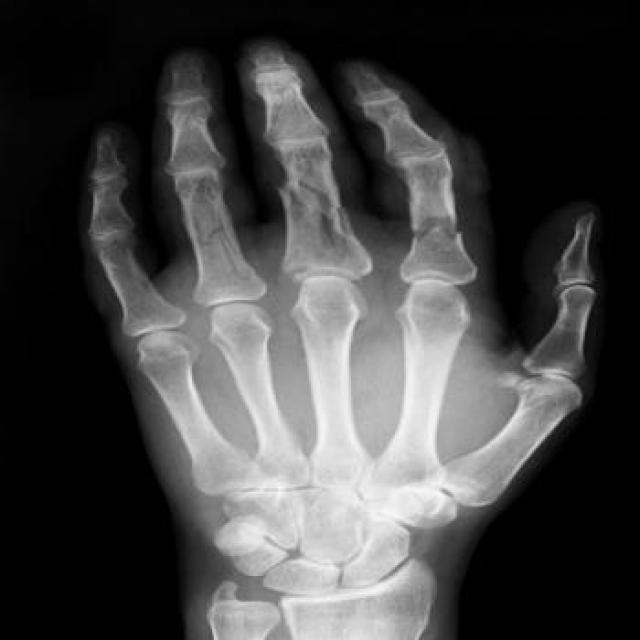fracture: (270, 178, 374, 246), (402, 204, 490, 248)
